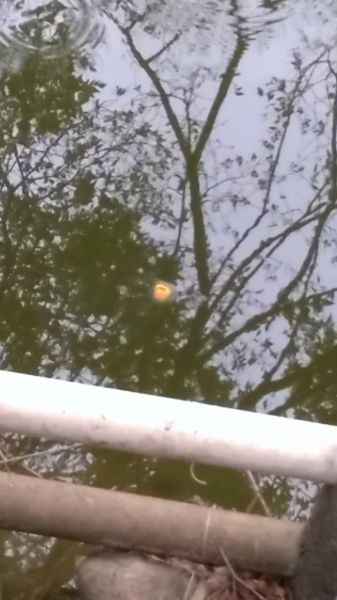eggs: (150, 278, 176, 305)
